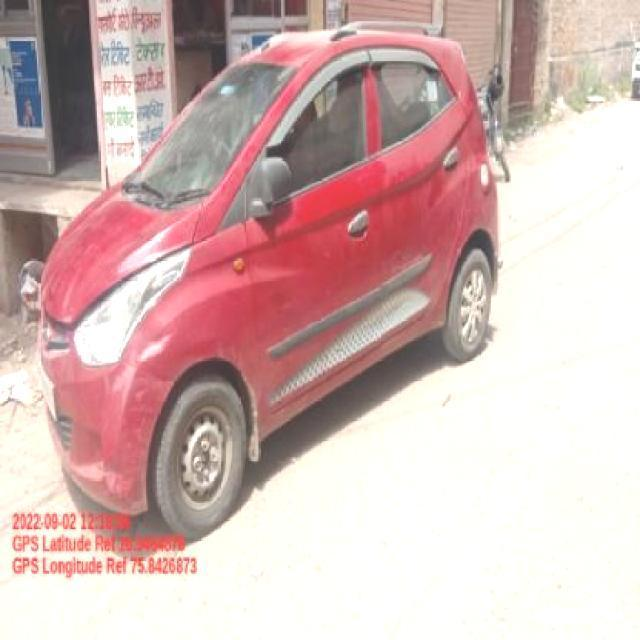minor: (125, 309, 182, 383)
